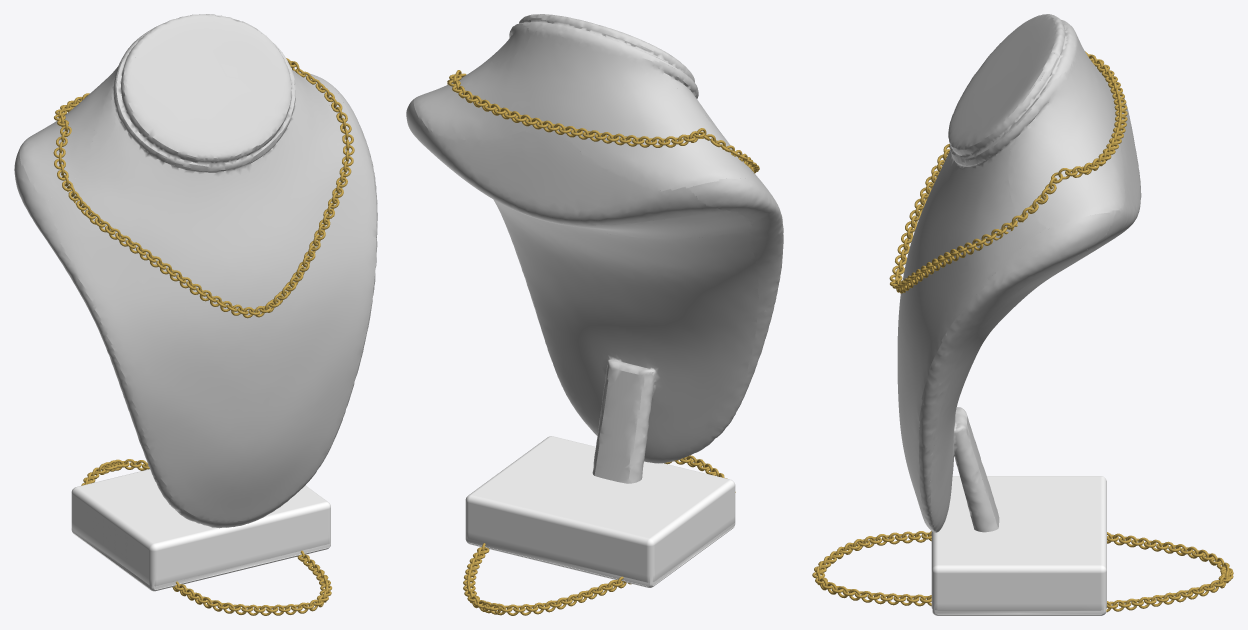
File: REGINA_busto.draco.glb
The picture shows the model from 3 angles, left to right: view 1: azimuth 30°, elevation 25°; view 2: azimuth 150°, elevation 25°; view 3: azimuth 270°, elevation 25°; orthographic projection. The views are drawn at different scales.
Parts seen in each view (by area): view 1: busto, plinto, pezzo00, posa00; view 2: busto, plinto, pezzo00, posa00; view 3: busto, plinto, pezzo00, posa00.
Part boxes in pixels (x1,y1,x2,y2): busto: [14, 14, 377, 528]; plinto: [71, 469, 330, 591]; pezzo00: [53, 58, 354, 318]; posa00: [81, 459, 331, 615]; busto: [406, 14, 783, 483]; plinto: [465, 436, 735, 587]; pezzo00: [447, 70, 759, 173]; posa00: [463, 455, 735, 615]; busto: [897, 14, 1141, 532]; plinto: [931, 476, 1106, 615]; pezzo00: [889, 51, 1127, 293]; posa00: [812, 531, 1233, 612].
Bounding box in the file's own units: 0.1901 × 0.2824 × 0.1972.
